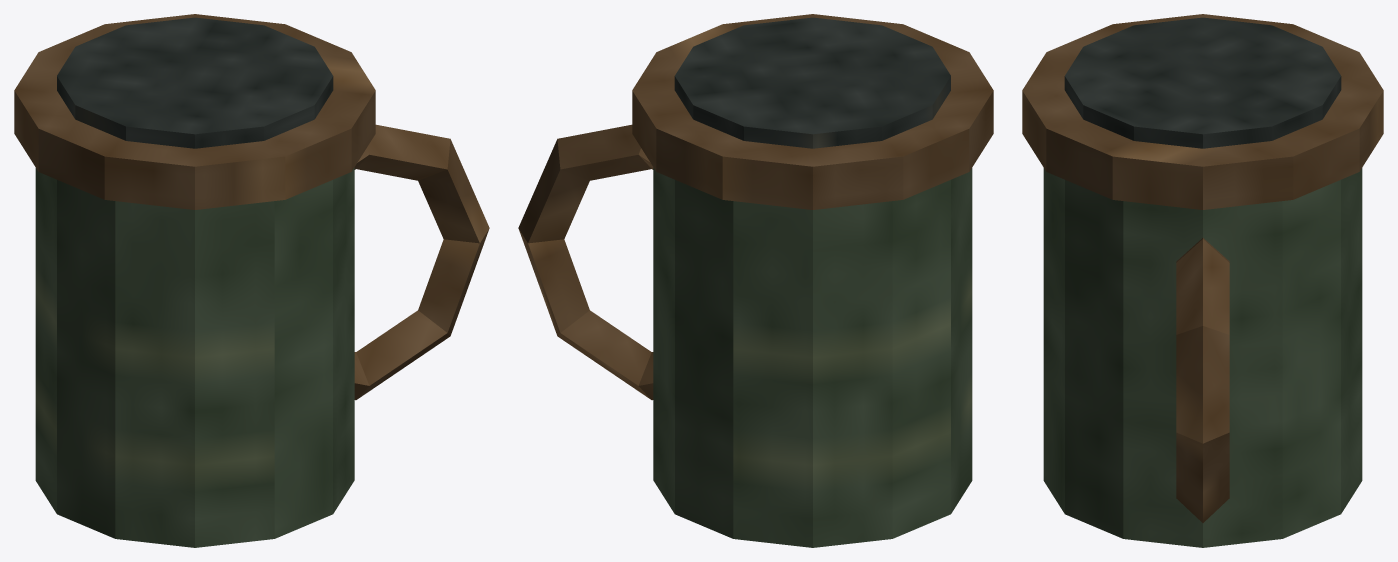
File: SH_POC_EnamelMug.fbx
3 renders of one model, left to right at view 1: azimuth 30°, elevation 25°; view 2: azimuth 150°, elevation 25°; view 3: azimuth 270°, elevation 25°, orthographic.
Visible parts, largest first — view 1: SH_POC_EnamelMug; view 2: SH_POC_EnamelMug; view 3: SH_POC_EnamelMug.
Part boxes in pixels (x1,y1,x2,y2): SH_POC_EnamelMug: [14, 14, 489, 547]; SH_POC_EnamelMug: [518, 14, 993, 547]; SH_POC_EnamelMug: [1022, 14, 1383, 547].
Bounding box in the file's own units: 0.196 × 0.168 × 0.136.
1 material, 1 textured.
